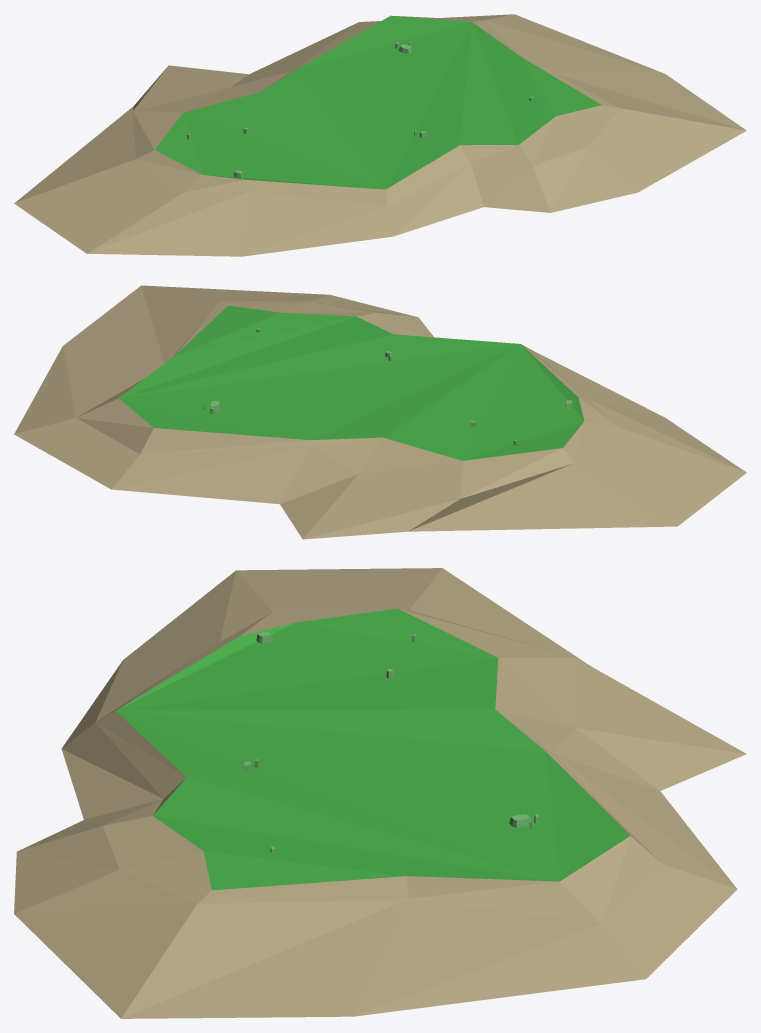
Rendered from Ground_07_B.FBX.
3 views of the same model, one above another, from view 1: azimuth 30°, elevation 25°; view 2: azimuth 150°, elevation 25°; view 3: azimuth 270°, elevation 25° (orthographic). The views are drawn at different scales.
Visible parts, largest first — view 1: Ground_07_B; view 2: Ground_07_B; view 3: Ground_07_B.
Part boxes in pixels (left/top/right/bottom): Ground_07_B: left=14, top=14, right=746, bottom=256; Ground_07_B: left=14, top=285, right=746, bottom=539; Ground_07_B: left=14, top=568, right=746, bottom=1018.
Bounding box in the file's own units: 11.49 × 0.6867 × 7.89.
